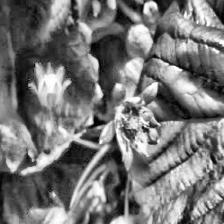Blossom Blight: (112, 97, 155, 154)
